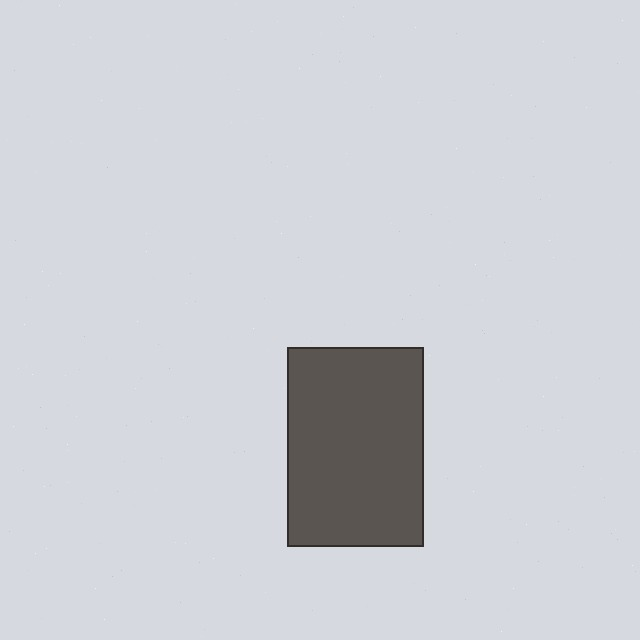concrete_damage: (287, 347, 423, 546)
